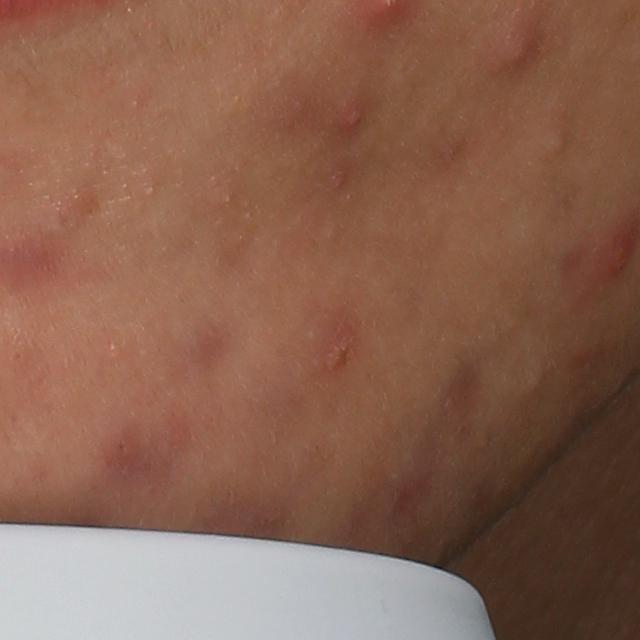comedo: (539, 129, 568, 156)
papule: (479, 15, 555, 83), (339, 87, 371, 135)
